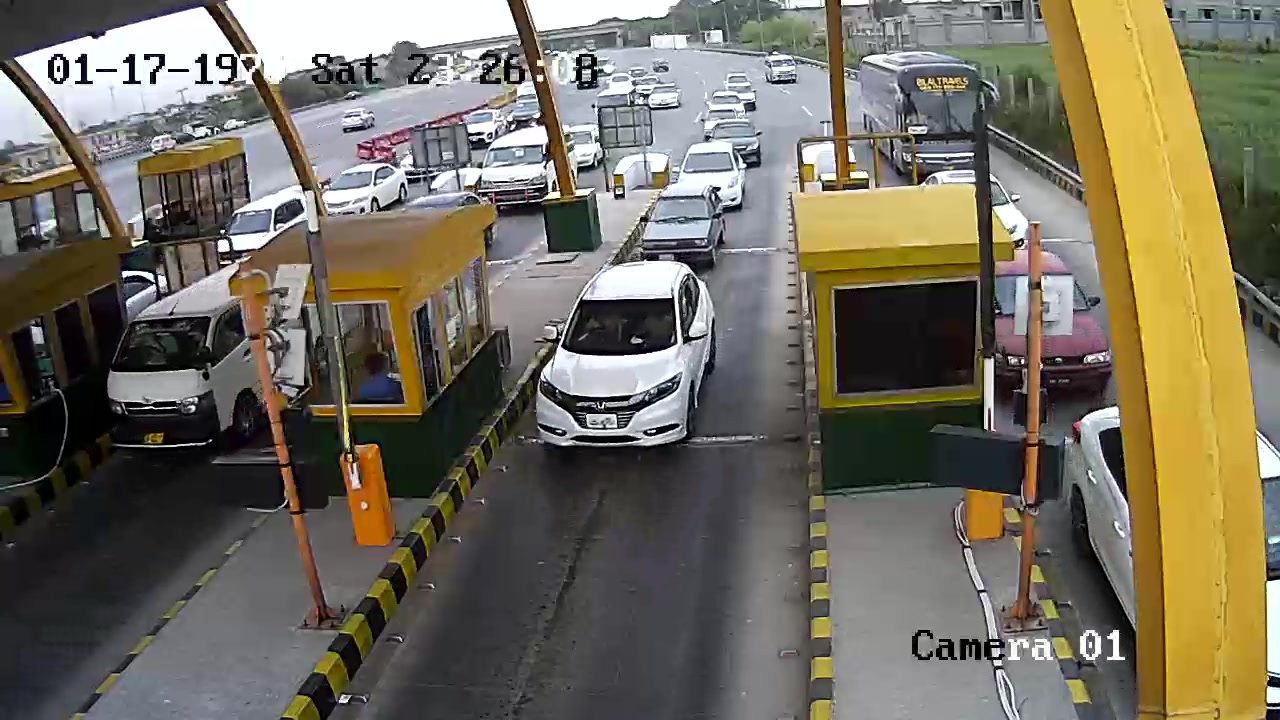F1: (525, 259, 729, 473)
